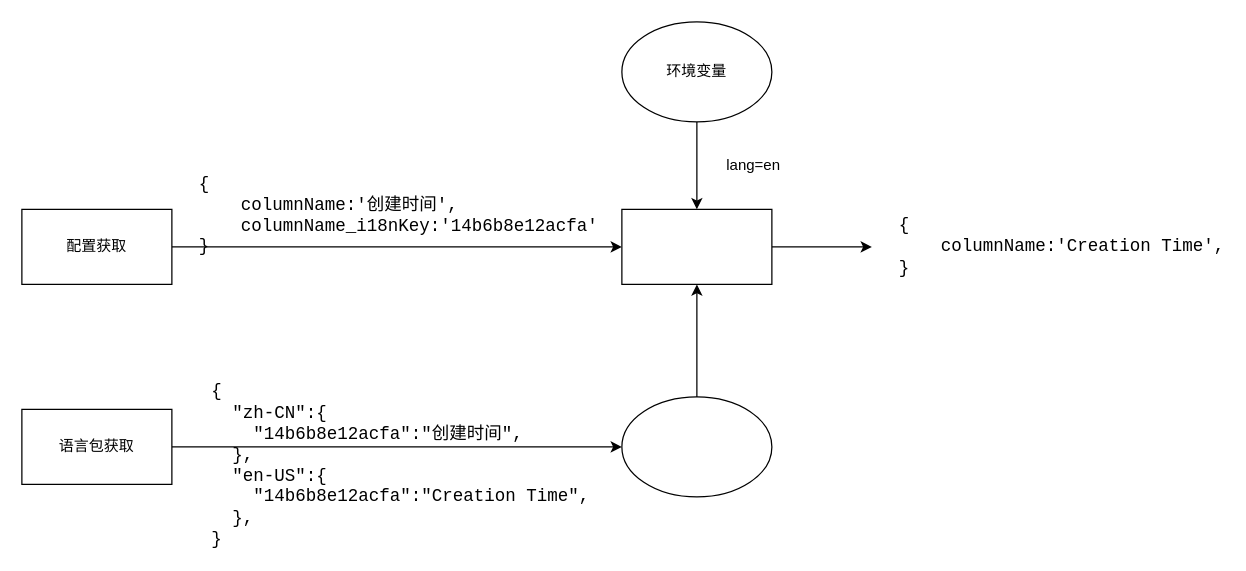
The diagram is 1246 pixels wide and 571 high, and some of its shapes have lost their labels. The box of each missing label's shape, as (x1, y1, x2, y2) in pixels:
语言包: (621, 396, 772, 497)
配置处理: (621, 208, 772, 284)
